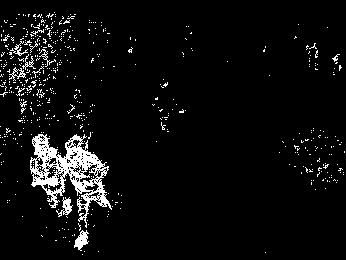person: (64, 137, 111, 247), (29, 135, 71, 217), (151, 78, 187, 133)
